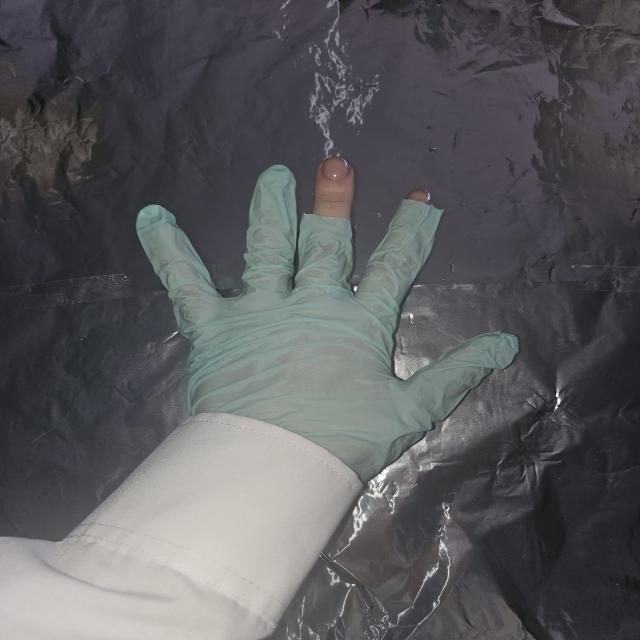gloves_damaged: (137, 153, 526, 498)
